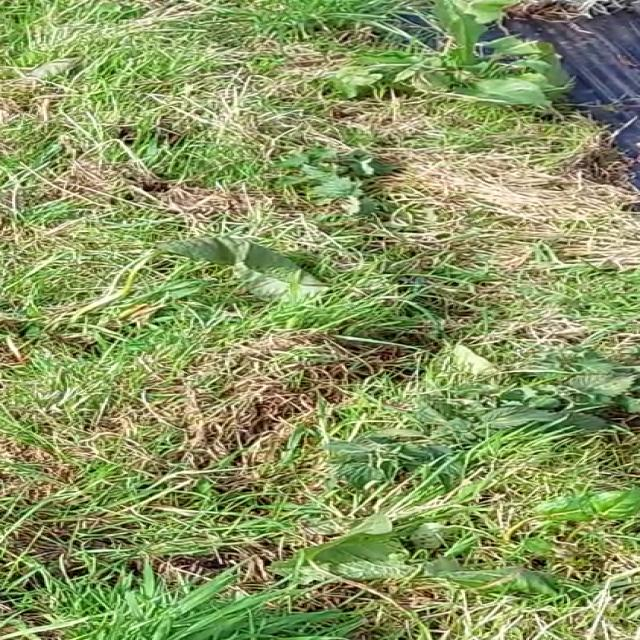organic waste: (124, 202, 490, 336), (252, 494, 622, 599), (300, 0, 620, 121)
